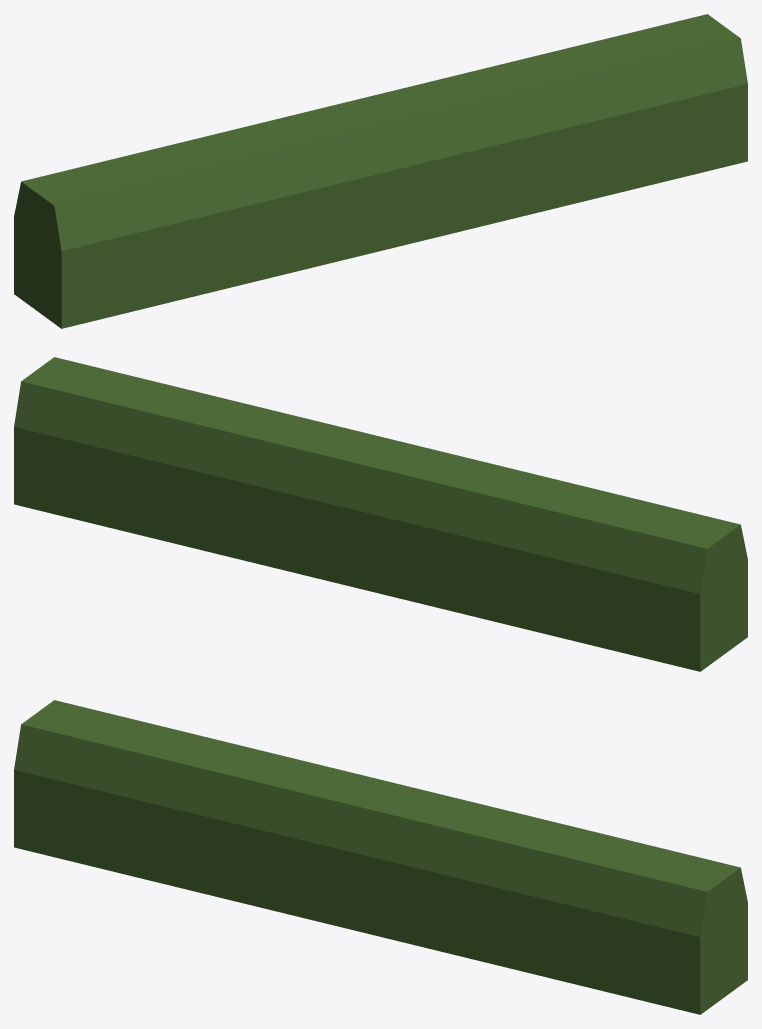
3 renders of one model, top to bottom at view 1: azimuth 30°, elevation 25°; view 2: azimuth 150°, elevation 25°; view 3: azimuth 330°, elevation 25°, orthographic.
Parts seen in each view (by area): view 1: Живая изгородь · низкая; view 2: Живая изгородь · низкая; view 3: Живая изгородь · низкая.
Part boxes in pixels (x1,y1,x2,y2): Живая изгородь · низкая: [14, 14, 747, 328]; Живая изгородь · низкая: [14, 357, 747, 671]; Живая изгородь · низкая: [14, 700, 747, 1014].
Bounding box in the file's own units: 5 × 0.82 × 0.6.
